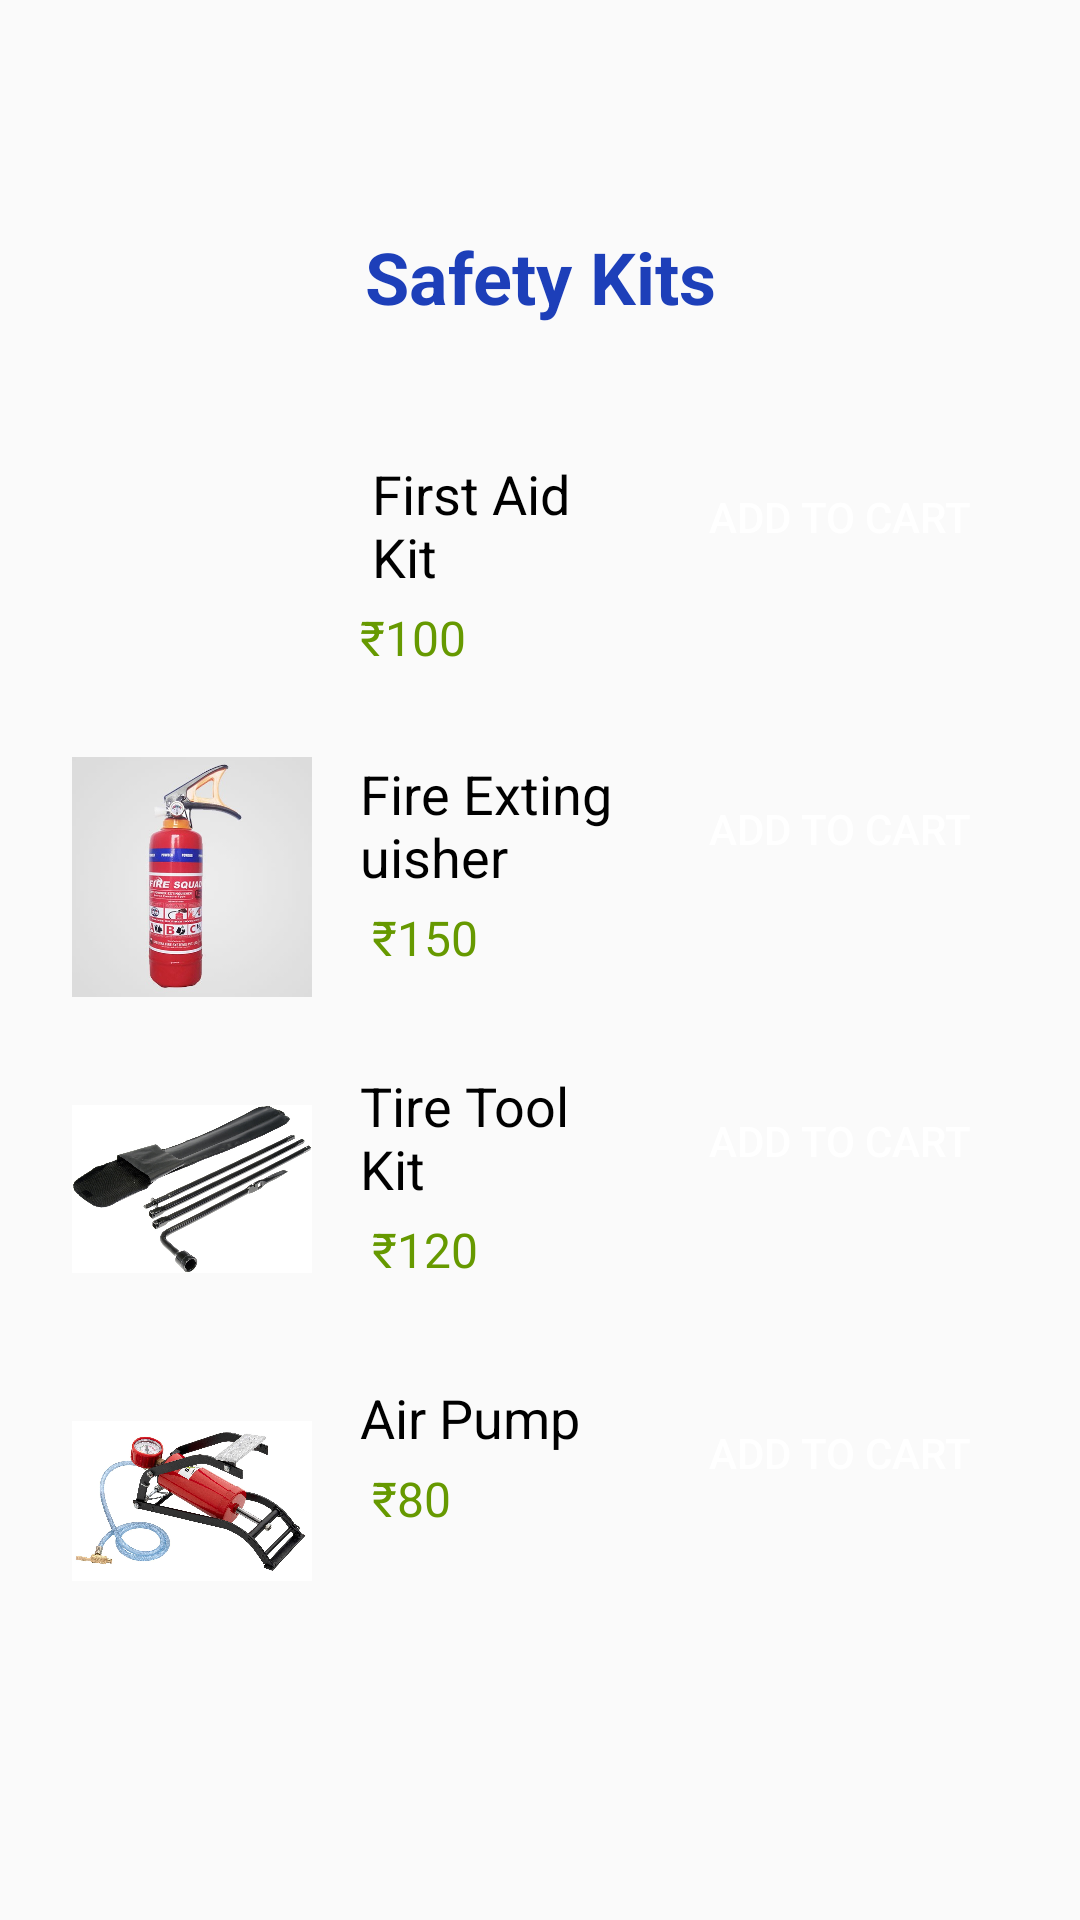

Icons on this 1080px×1920px Android screen, each with the point to tap as point (x, y):
Product Image 2: point (192, 877)
Product Image 3: point (192, 1189)
Product Image 4: point (190, 1501)
